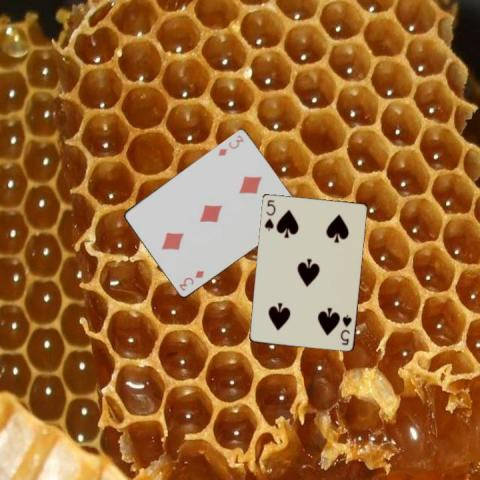3d: (216, 132, 246, 158), (176, 267, 205, 292)
5s: (261, 197, 277, 232), (337, 311, 353, 346)
